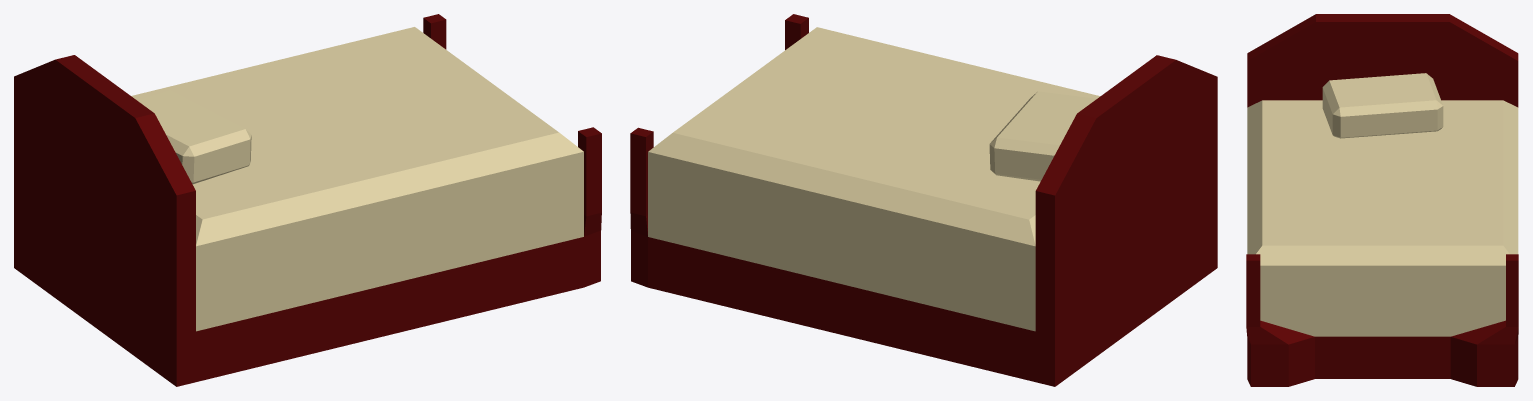
The model's file is long_rest.glb.
The picture shows the model from 3 angles, left to right: view 1: azimuth 30°, elevation 25°; view 2: azimuth 150°, elevation 25°; view 3: azimuth 270°, elevation 25°; orthographic projection. The views are drawn at different scales.
Parts seen in each view (by area): view 1: Cube; view 2: Cube; view 3: Cube.
Boxes of the visible parts, bbox=[...] form: Cube: bbox=[14, 14, 601, 386]; Cube: bbox=[630, 14, 1217, 386]; Cube: bbox=[1246, 14, 1518, 386].
Bounding box in the file's own units: 2.2 × 1.18 × 1.46.
Materials: 1 (1 with a texture image).
